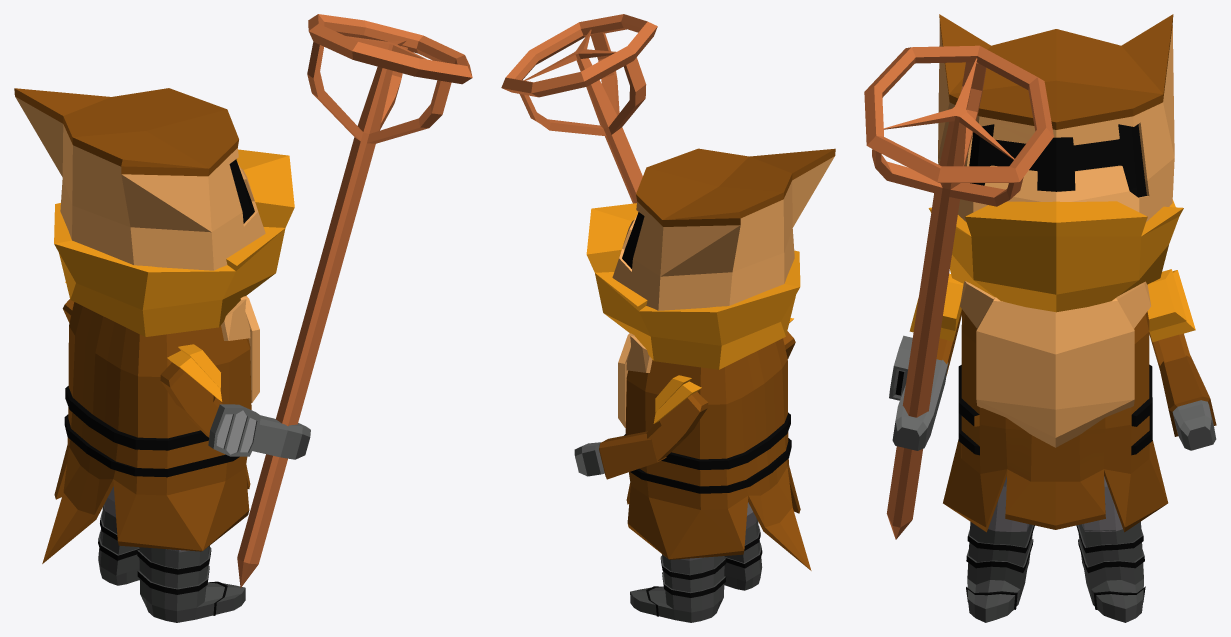
The model's file is salamander.glb.
3 renders of one model, left to right at view 1: azimuth 30°, elevation 25°; view 2: azimuth 150°, elevation 25°; view 3: azimuth 270°, elevation 25°, orthographic. The views are drawn at different scales.
Visible parts, largest first — view 1: salamander; view 2: salamander; view 3: salamander.
Part boxes in pixels (left/top/right/bottom): salamander: left=14, top=14, right=472, bottom=622; salamander: left=501, top=14, right=835, bottom=622; salamander: left=864, top=14, right=1216, bottom=622.
Size of the model in its own units: 4.2 by 6.06 by 3.13.
4 materials, 1 textured.
